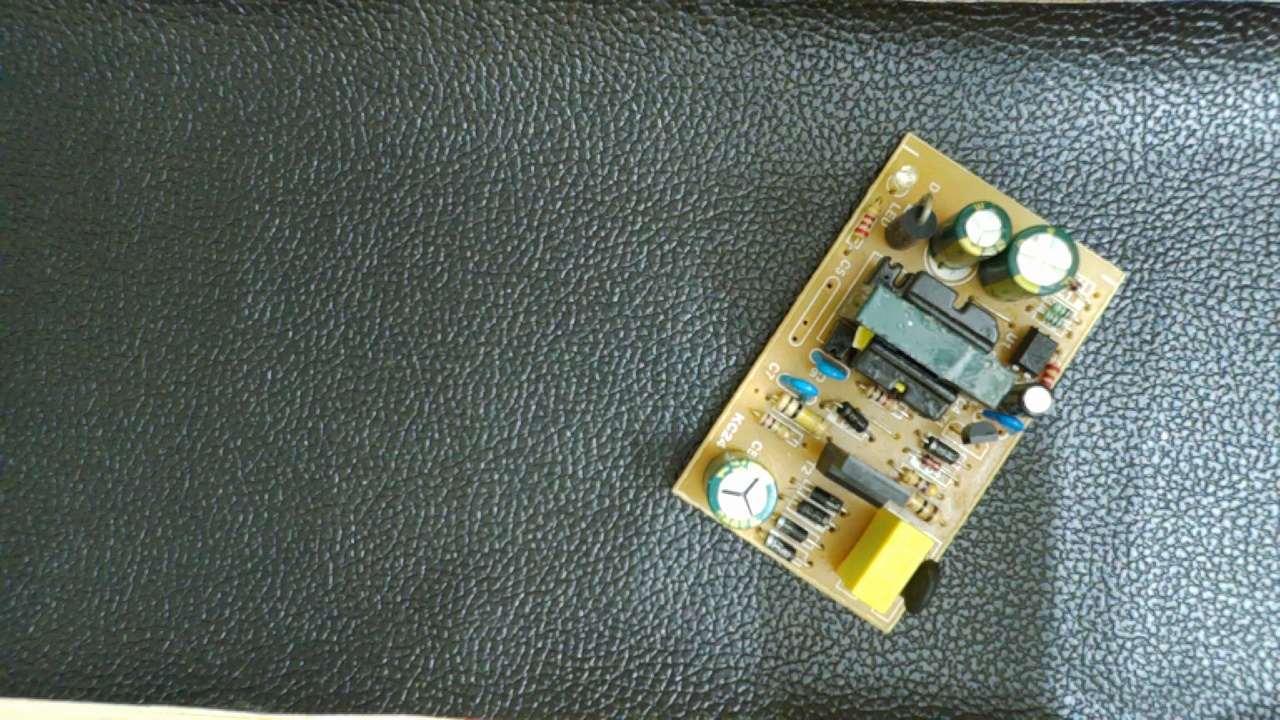fuse: (894, 546, 945, 621)
hv_capacitor: (702, 447, 782, 536)
optocoupler: (1010, 321, 1059, 378)
